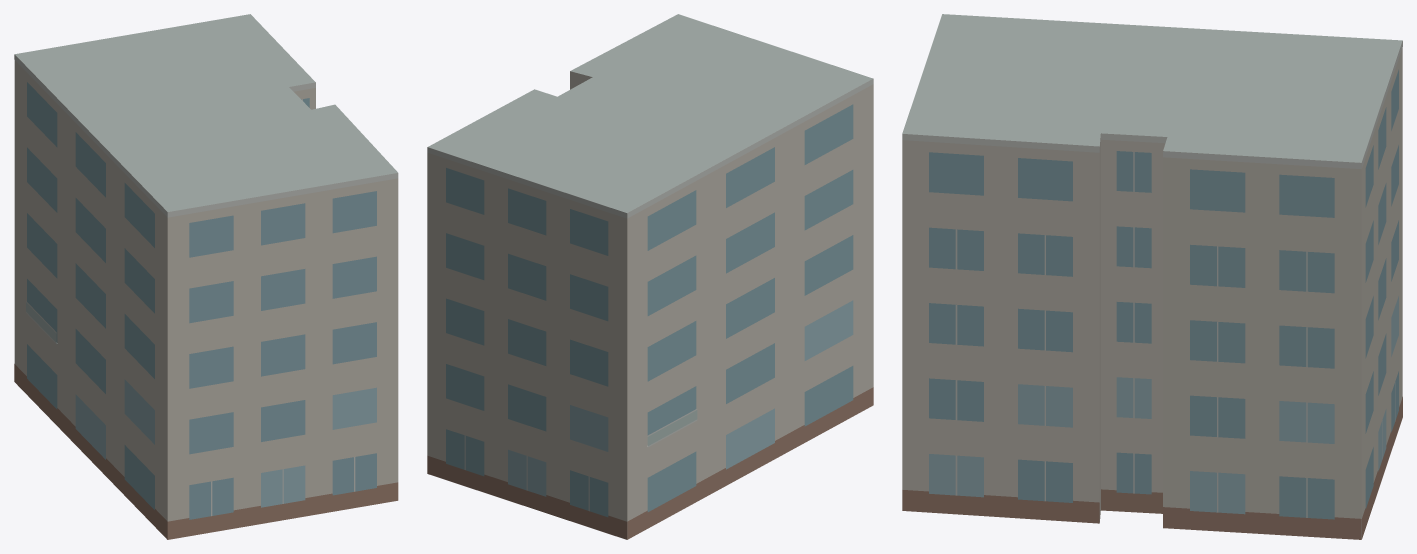
The model's file is survey-upis-32569863.glb.
3 renders of one model, left to right at view 1: azimuth 30°, elevation 25°; view 2: azimuth 150°, elevation 25°; view 3: azimuth 270°, elevation 25°, orthographic. The views are drawn at different scales.
Visible parts, largest first — view 1: survey-upis-32569863.tmp; view 2: survey-upis-32569863.tmp; view 3: survey-upis-32569863.tmp.
Boxes of the visible parts, x1,y1,x2,y2 form: survey-upis-32569863.tmp: [14, 14, 398, 539]; survey-upis-32569863.tmp: [427, 14, 873, 539]; survey-upis-32569863.tmp: [902, 14, 1402, 539].
Size of the model in its own units: 12.37 by 14.6 by 17.58.
